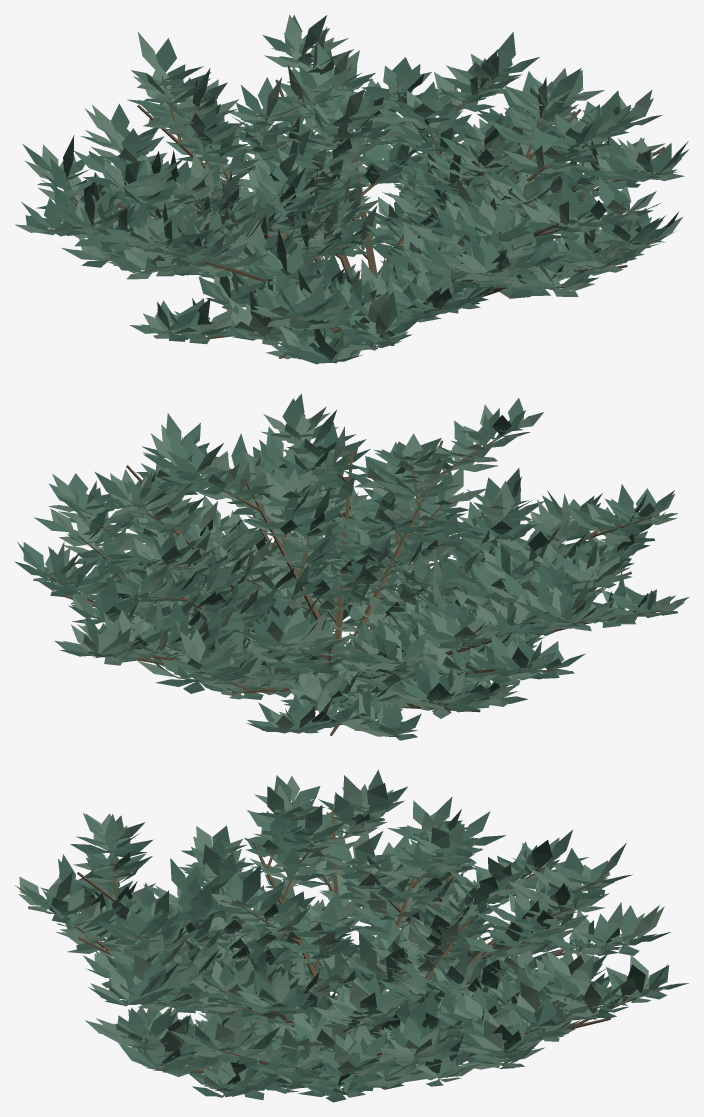
Rendered from bush_14.glb.
3 renders of one model, top to bottom at view 1: azimuth 30°, elevation 25°; view 2: azimuth 150°, elevation 25°; view 3: azimuth 270°, elevation 25°, orthographic. The views are drawn at different scales.
Parts seen in each view (by area): view 1: bush_14; view 2: bush_14; view 3: bush_14.
Part boxes in pixels (x1,y1,x2,y2): bush_14: [15, 14, 689, 364]; bush_14: [14, 393, 689, 740]; bush_14: [15, 769, 688, 1102].
Size of the model in its own units: 2.03 by 0.6736 by 2.06.
